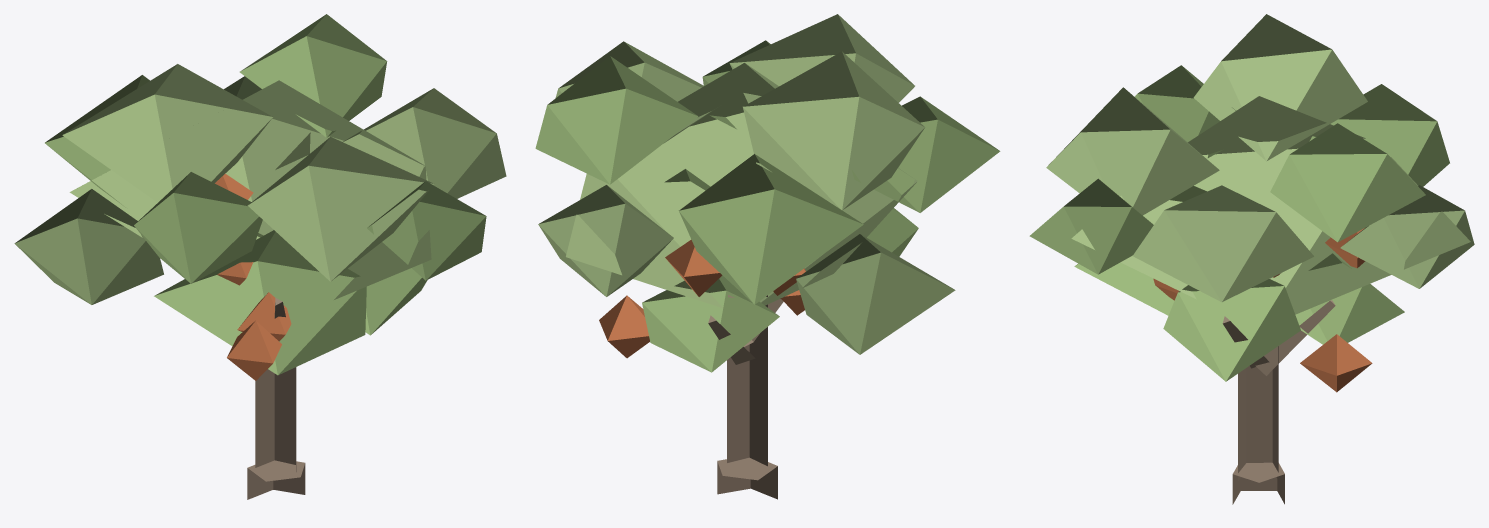
Rendered from tree.trop.mango__spring.glb.
The picture shows the model from 3 angles, left to right: view 1: azimuth 30°, elevation 25°; view 2: azimuth 150°, elevation 25°; view 3: azimuth 270°, elevation 25°; orthographic projection. The views are drawn at different scales.
Parts seen in each view (by area): view 1: tree.trop.mango__spring; view 2: tree.trop.mango__spring; view 3: tree.trop.mango__spring.
Boxes of the visible parts, x1=… form: tree.trop.mango__spring: x1=14, y1=14, x2=506, y2=499; tree.trop.mango__spring: x1=535, y1=14, x2=1000, y2=499; tree.trop.mango__spring: x1=1029, y1=14, x2=1474, y2=504.
Bounding box in the file's own units: 11.11 × 11.81 × 10.79.
